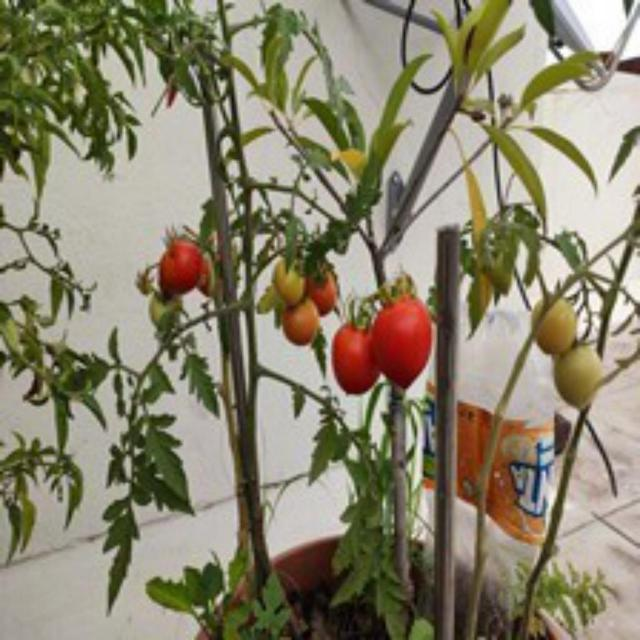tomato: (323, 312, 389, 393), (368, 287, 426, 378), (152, 228, 210, 298)
